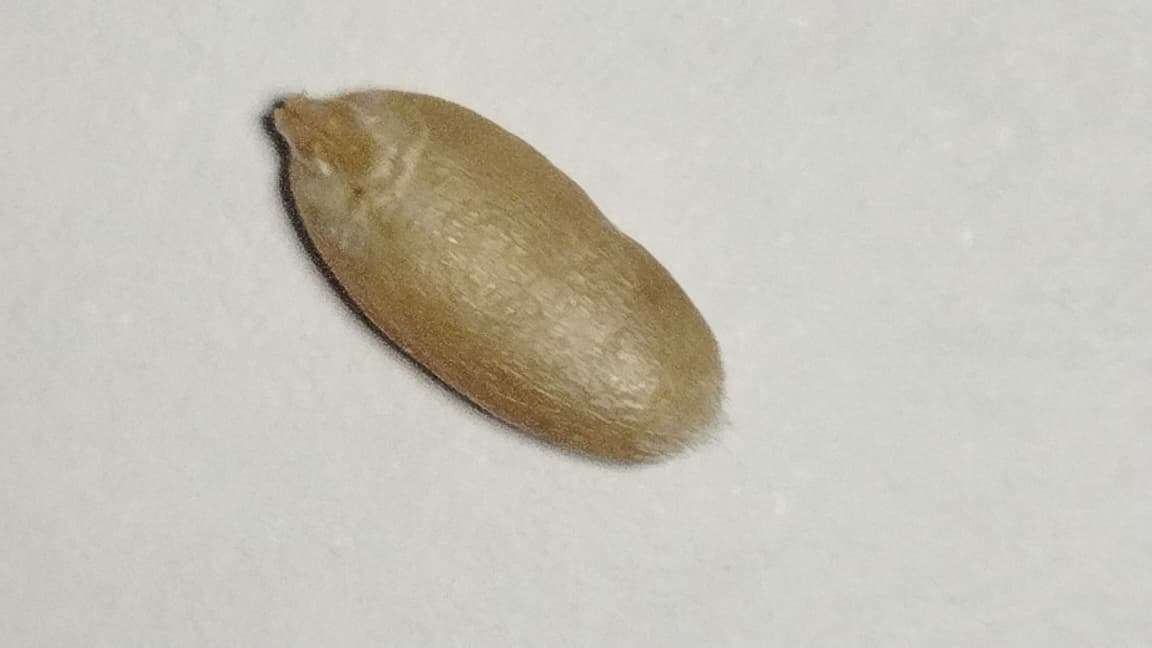healthy: (273, 90, 719, 429)
